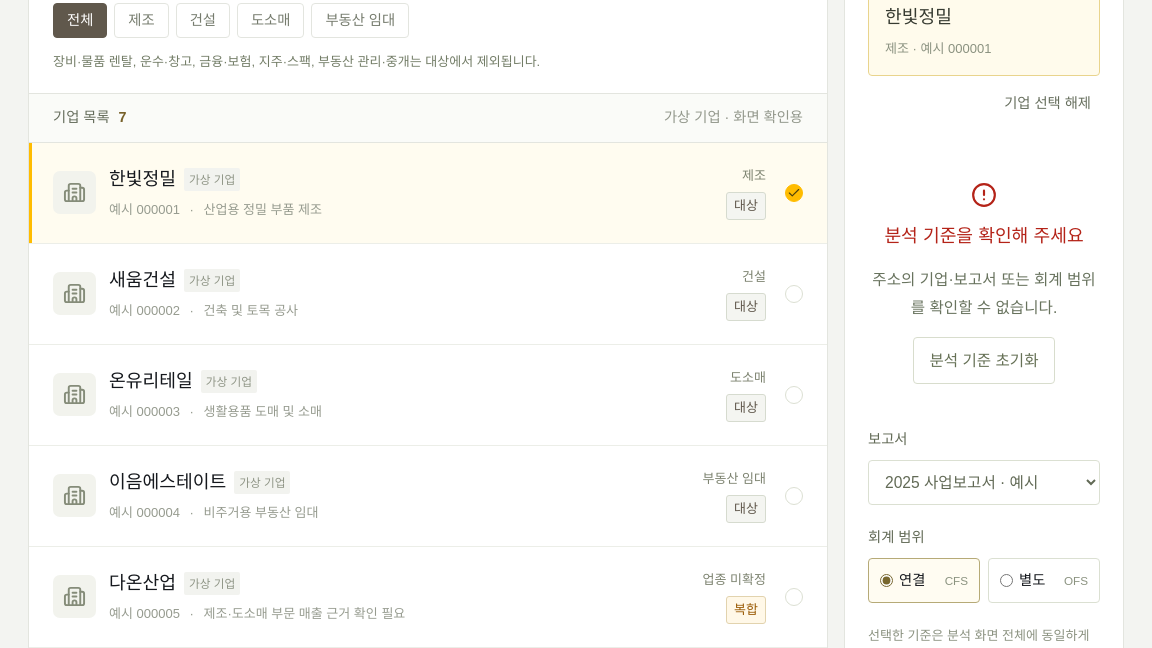
Scenario: requires resetting invalid URL criteria instead of silently applying another accounting scope
(page scrolled)
expect the message shows "분석 기준을 확인해 주세요": met, box [884, 226, 1084, 246]
Click the button "분석 기준 초기화".
click(984, 360)  # box [914, 337, 1055, 384]
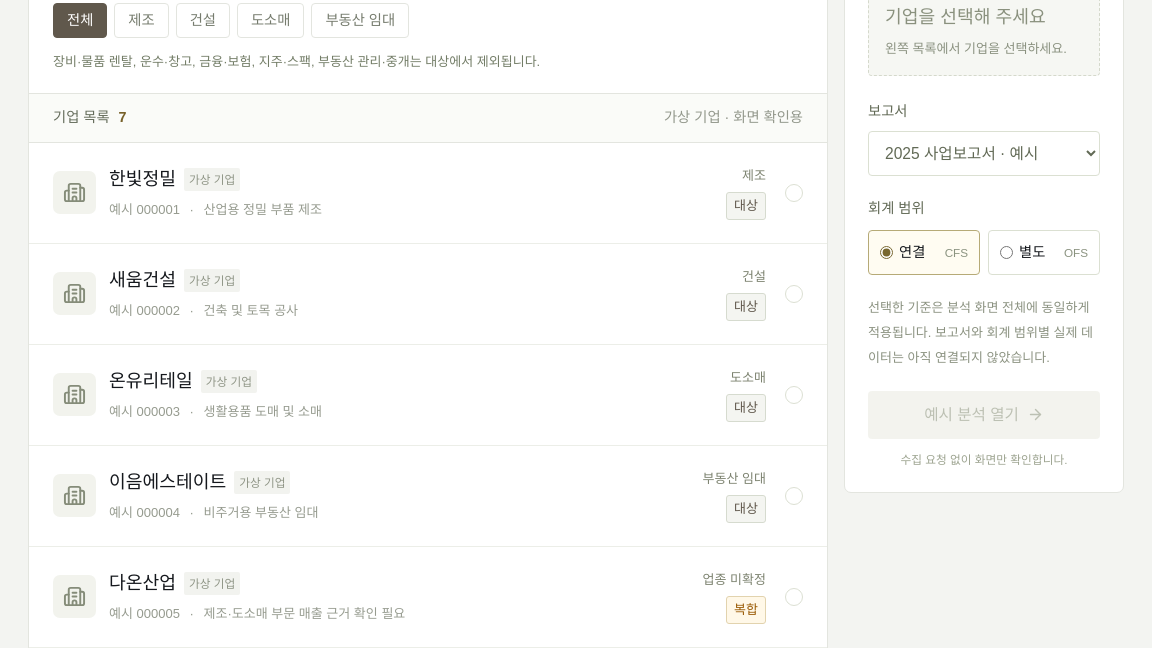
expect the button "예시 분석 열기" is disabled: met, box [868, 391, 1100, 439]
expect the message "분석 기준을 확인해 주세요 주소의 기업·보고서 또는 회계 범위를 확인할 수 없습니다. 분석 기준 초기화" is gone: met
